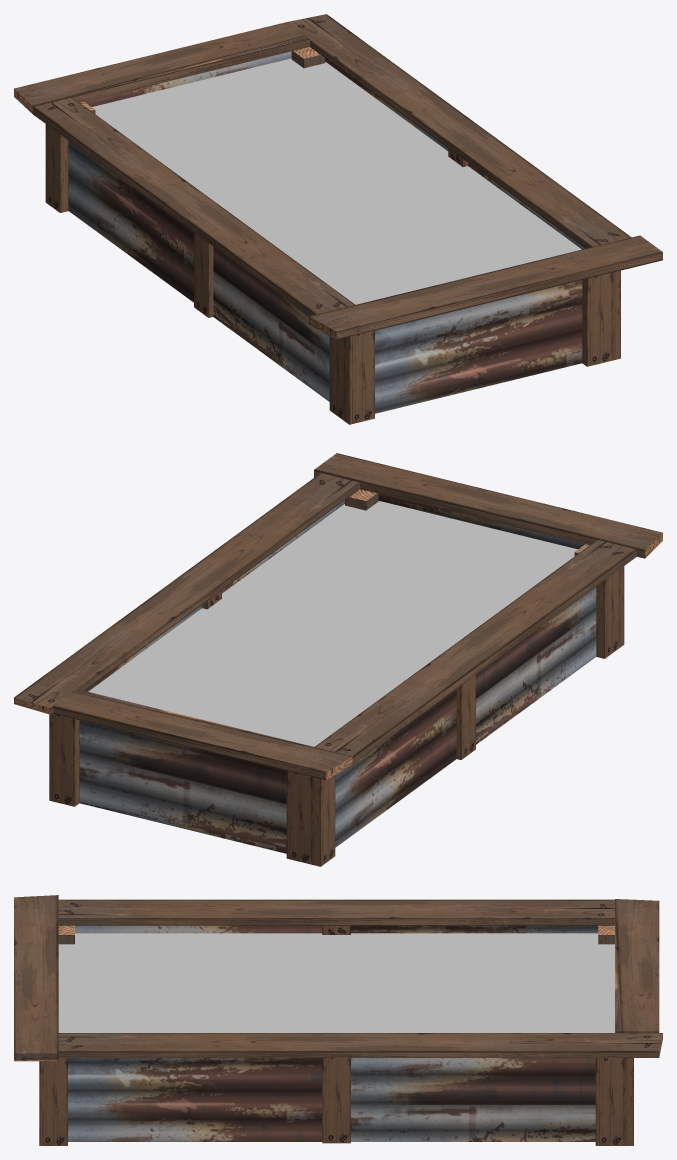
File: raisedBed15.fbx
The picture shows the model from 3 angles, top to bottom: view 1: azimuth 30°, elevation 25°; view 2: azimuth 150°, elevation 25°; view 3: azimuth 270°, elevation 25°; orthographic projection. The views are drawn at different scales.
Parts seen in each view (by area): view 1: raisedBed15; view 2: raisedBed15; view 3: raisedBed15.
Boxes of the visible parts, <box> form: raisedBed15: <box>14,14,662,424</box>; raisedBed15: <box>14,453,662,866</box>; raisedBed15: <box>14,895,662,1145</box>.
Bounding box in the file's own units: 195 × 61.29 × 338.
